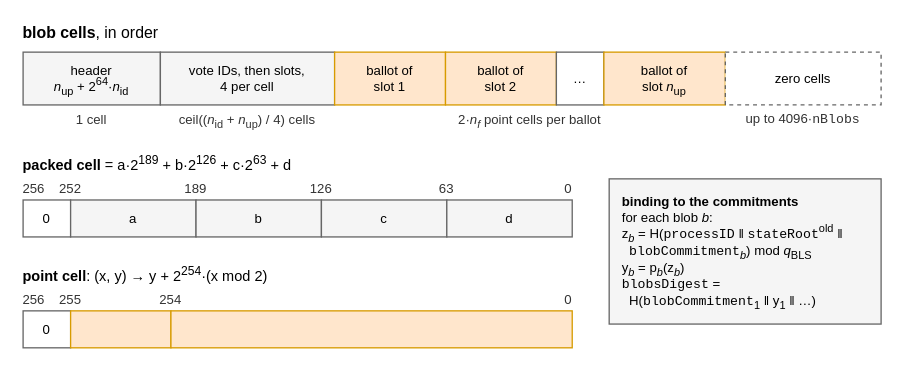
Image size: 904x371. Some labels were removed from this diagram. Here are the shapes that lost their labels. From the top down, the centre of each, then its label:
At (120,329): "x mod 2".
At (371,329): "y (BN254 field element)".
